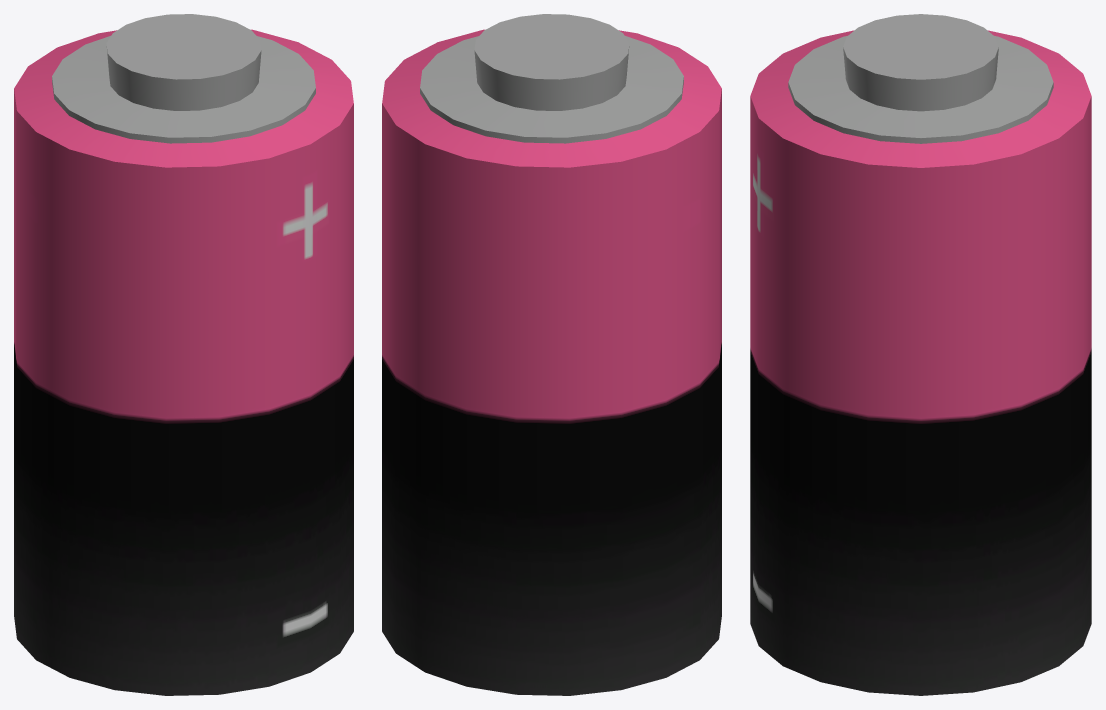
File: Battery_Relic.fbx
3 renders of one model, left to right at view 1: azimuth 30°, elevation 25°; view 2: azimuth 150°, elevation 25°; view 3: azimuth 270°, elevation 25°, orthographic.
Visible parts, largest first — view 1: Battery (1); view 2: Battery (1); view 3: Battery (1).
Part boxes in pixels (box(x1,y1,x2,y2)): Battery (1): box(14, 14, 353, 695); Battery (1): box(382, 14, 721, 695); Battery (1): box(750, 14, 1091, 695).
Size of the model in its own units: 0.4492 by 0.8578 by 0.4492.
